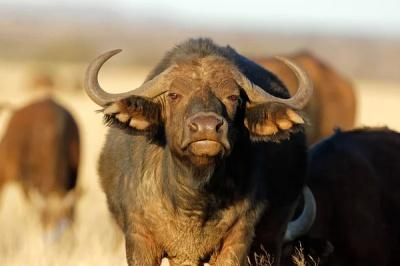buffalo: (86, 38, 311, 265)
